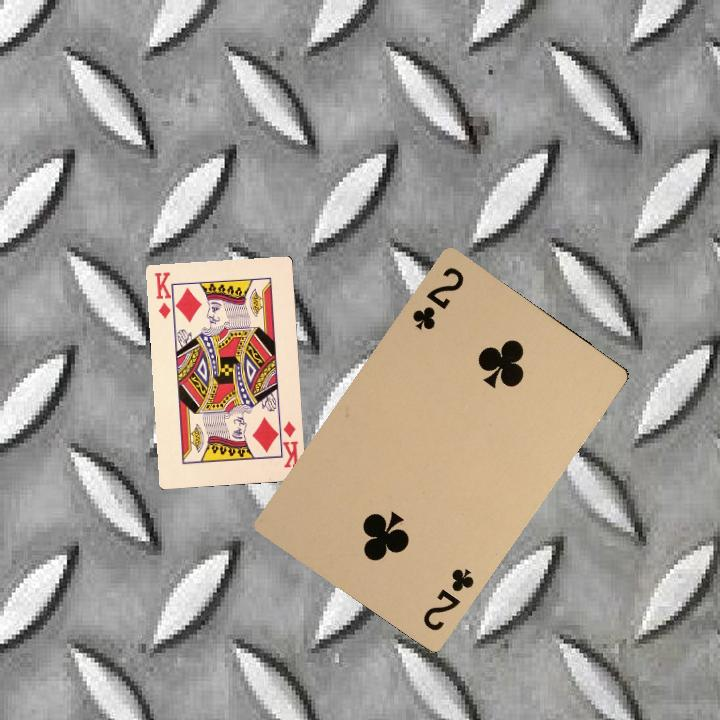2c: (408, 262, 467, 333), (418, 564, 477, 634)
Kd: (150, 268, 178, 325), (273, 419, 302, 470)
